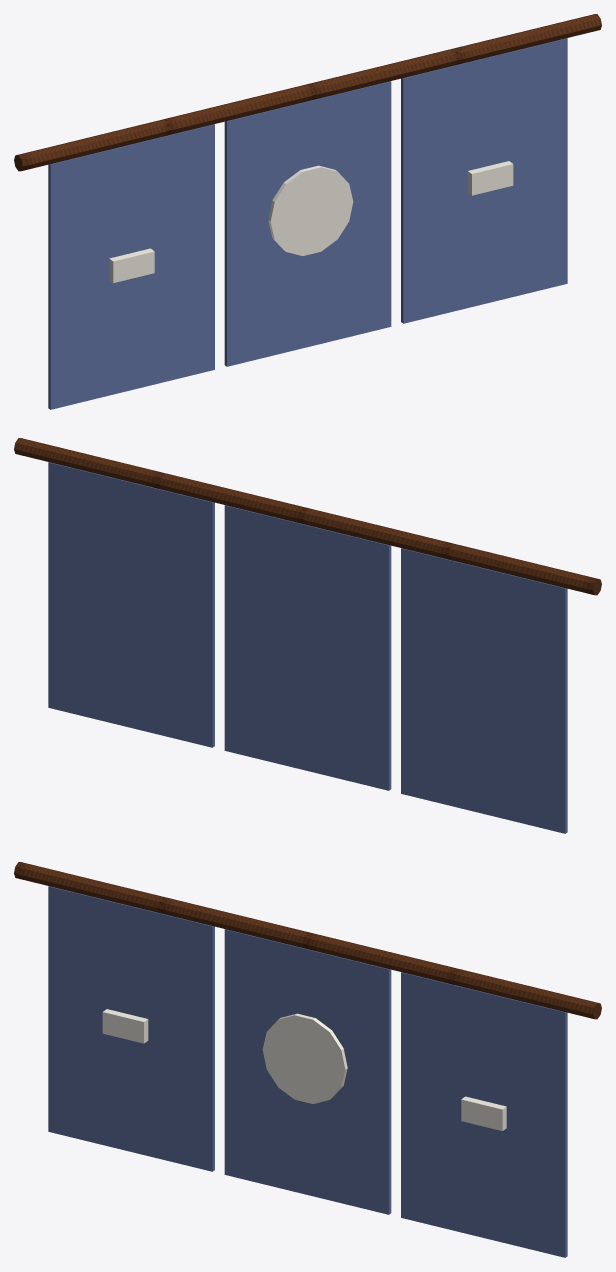
File: noren_curtain.glb
3 renders of one model, top to bottom at view 1: azimuth 30°, elevation 25°; view 2: azimuth 150°, elevation 25°; view 3: azimuth 330°, elevation 25°, orthographic.
Visible parts, largest first — view 1: noren-curtain-indigo, noren-curtain-darkwood, noren-curtain-cream; view 2: noren-curtain-indigo, noren-curtain-darkwood; view 3: noren-curtain-indigo, noren-curtain-darkwood, noren-curtain-cream.
Part boxes in pixels (x1,y1,x2,y2): noren-curtain-indigo: [48, 38, 567, 409]; noren-curtain-darkwood: [14, 14, 601, 171]; noren-curtain-cream: [109, 161, 513, 282]; noren-curtain-indigo: [48, 462, 567, 833]; noren-curtain-darkwood: [14, 438, 601, 595]; noren-curtain-indigo: [48, 886, 567, 1257]; noren-curtain-darkwood: [14, 862, 601, 1019]; noren-curtain-cream: [102, 1009, 506, 1130].
Size of the model in its own units: 1.68 by 0.724 by 0.0491.
Materials: 3 (1 with a texture image).
